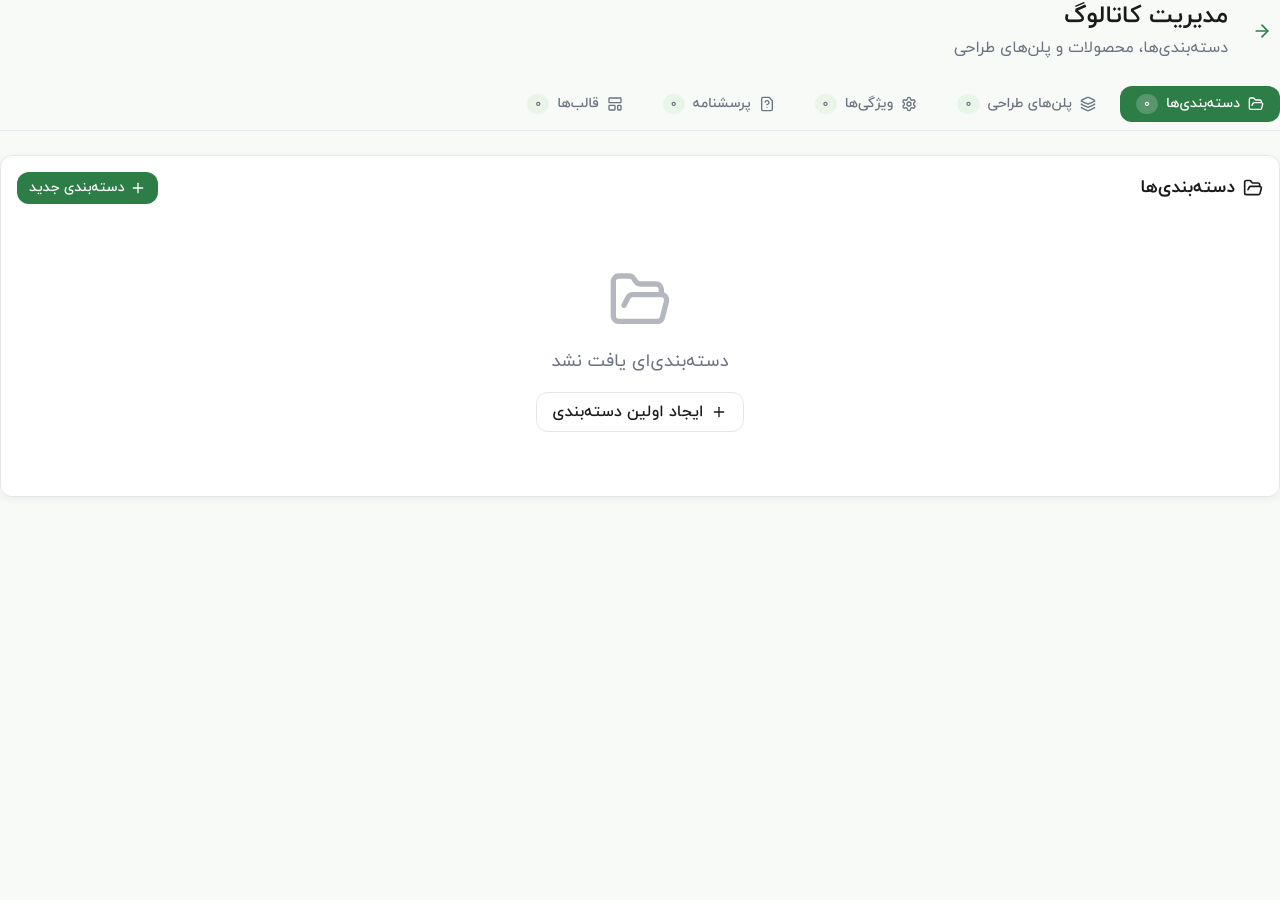
Scenario: Interactive Elements Audit › Admin Catalog Page › "دسته‌بندی جدید" button opens modal
The width and height of the screenshot is (1280, 900).
Expected: the heading "مدیریت کاتالوگ" is shown, 1064,0 -> 1228,33
Click the button "دسته‌بندی جدید" at (88, 188), box 17,172 -> 158,204
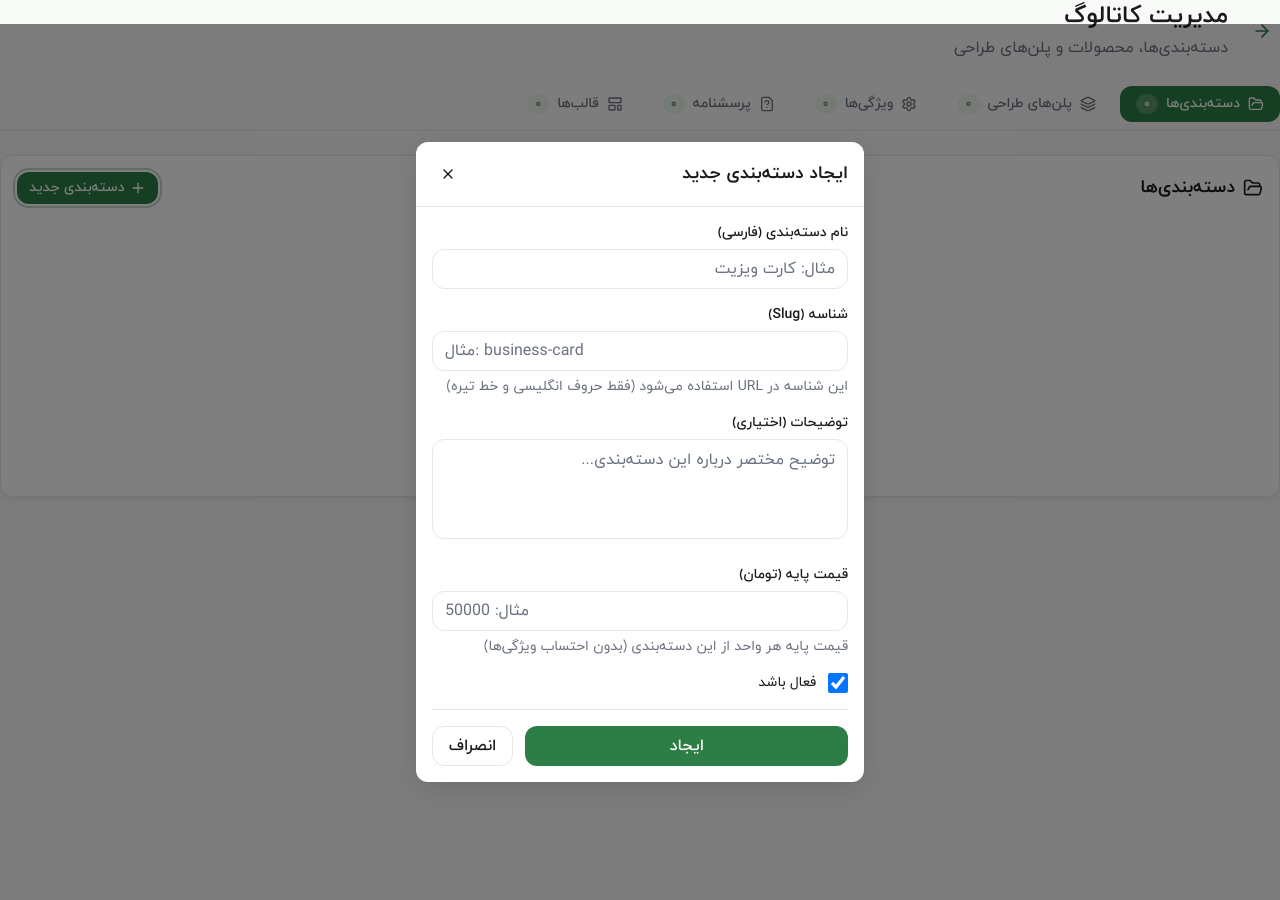
Expected: the dialog is shown, 416,142 -> 864,782
Expected: the heading "ایجاد دسته‌بندی جدید" is shown, 682,160 -> 848,188
